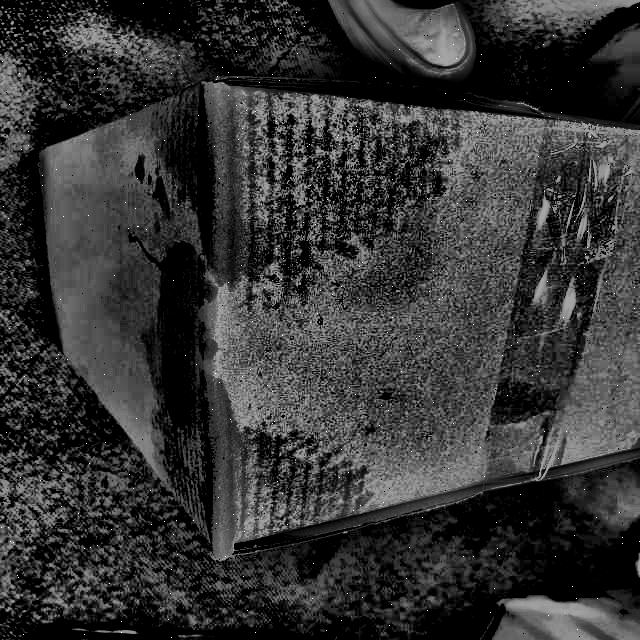box: (23, 68, 640, 573)
wet: (120, 88, 407, 533)
